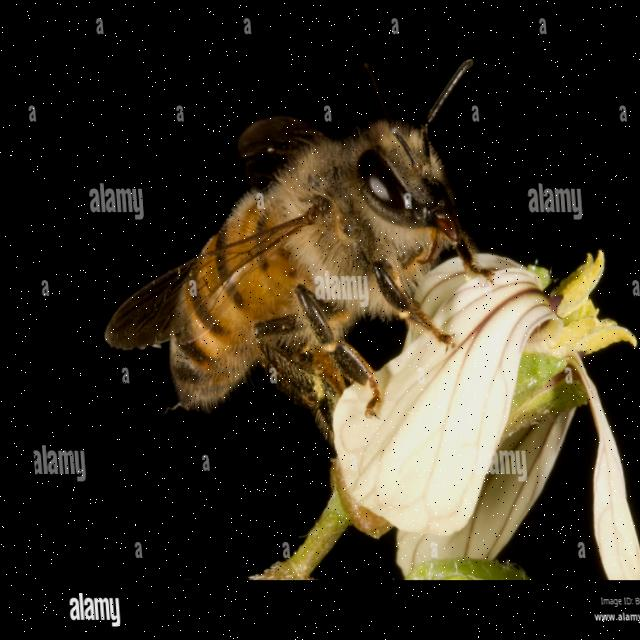Apis-mellifera-scutellata: (72, 55, 518, 474)
